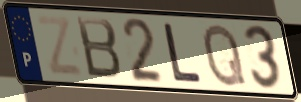2: (121, 16, 166, 86)
3: (242, 23, 284, 92)
B: (74, 14, 124, 82)
L: (161, 21, 204, 85)
Q: (201, 21, 249, 89)
Z: (34, 14, 86, 79)
